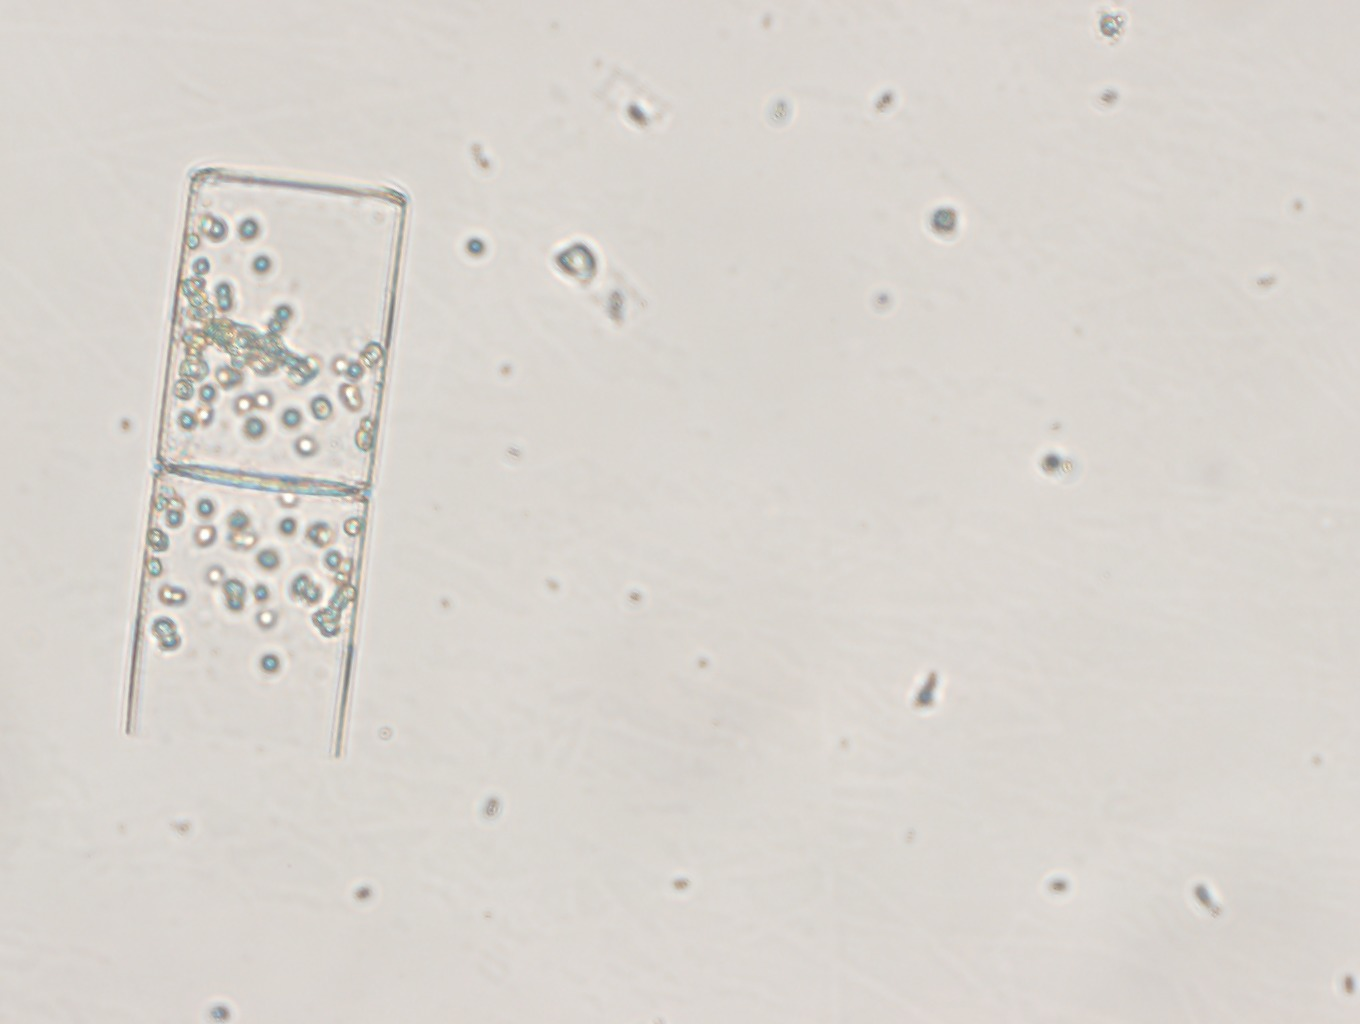guinardia flaccida: (123, 163, 414, 814)
